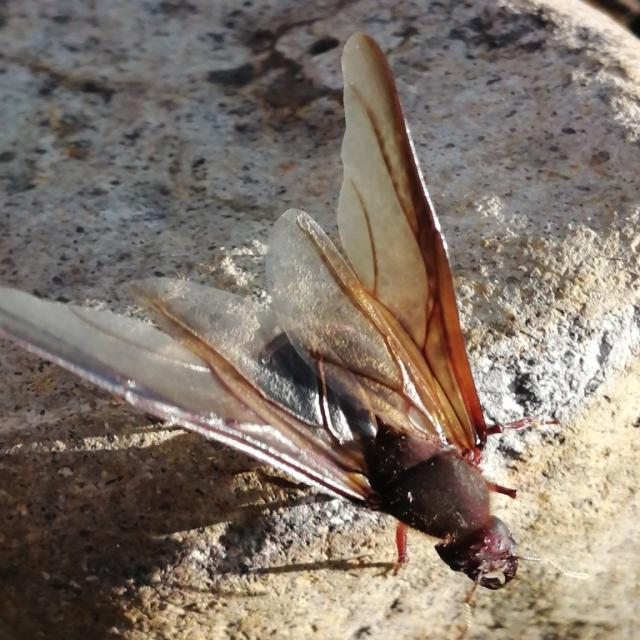Alive-Female-Alate: (0, 31, 595, 614)
